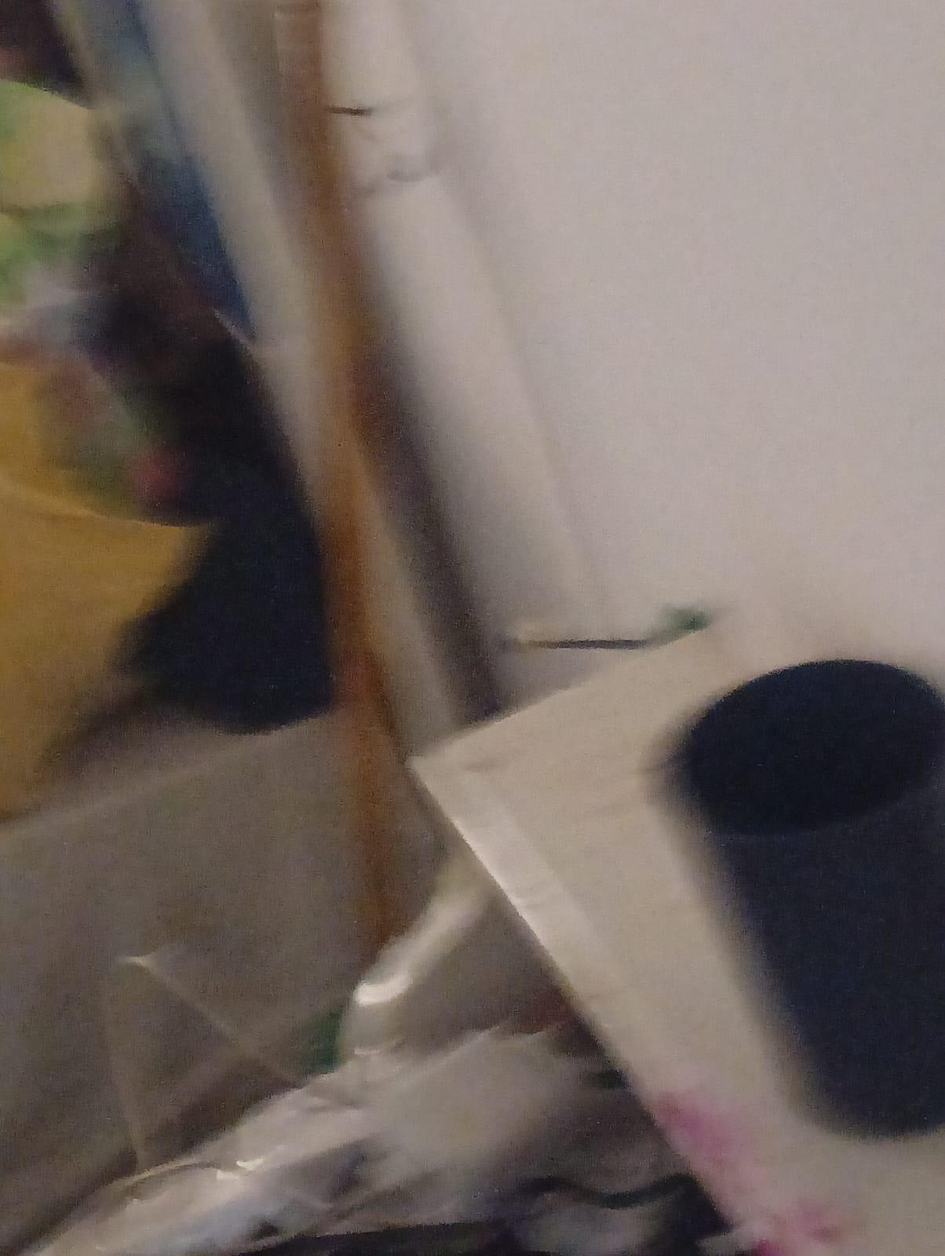cup: (674, 659, 944, 1134)
